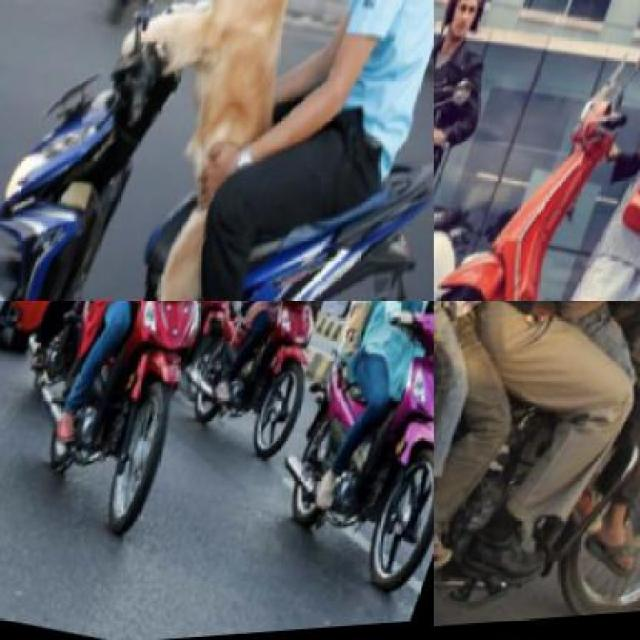With Helmet: (434, 0, 517, 54)
